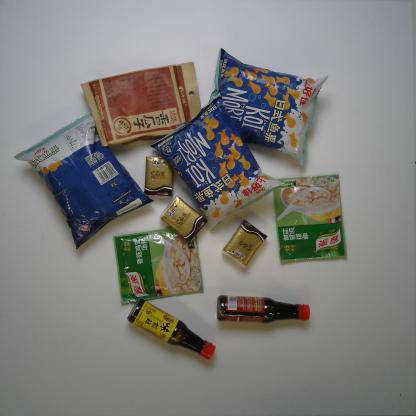Dried Food: (78, 58, 206, 147)
Puffed Food: (12, 111, 153, 249), (149, 89, 285, 231), (211, 48, 330, 168)
Seasoner: (112, 226, 206, 306), (272, 172, 350, 264), (127, 297, 216, 362), (213, 293, 312, 323)
Tissue: (221, 221, 270, 270), (160, 194, 206, 242), (143, 155, 175, 198)
